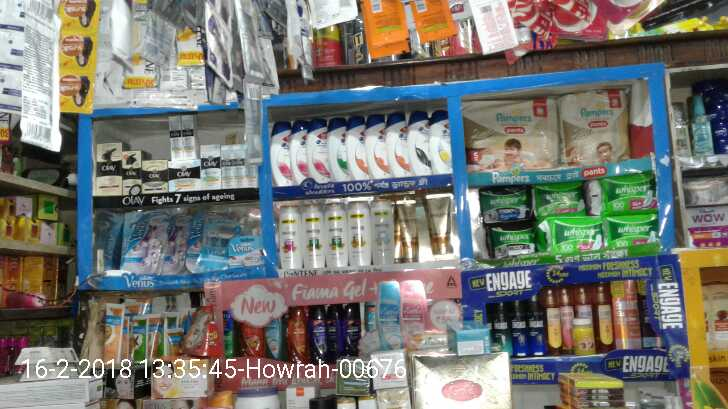venus: (158, 210, 191, 279), (126, 211, 158, 279), (191, 210, 224, 271), (224, 234, 261, 271)
